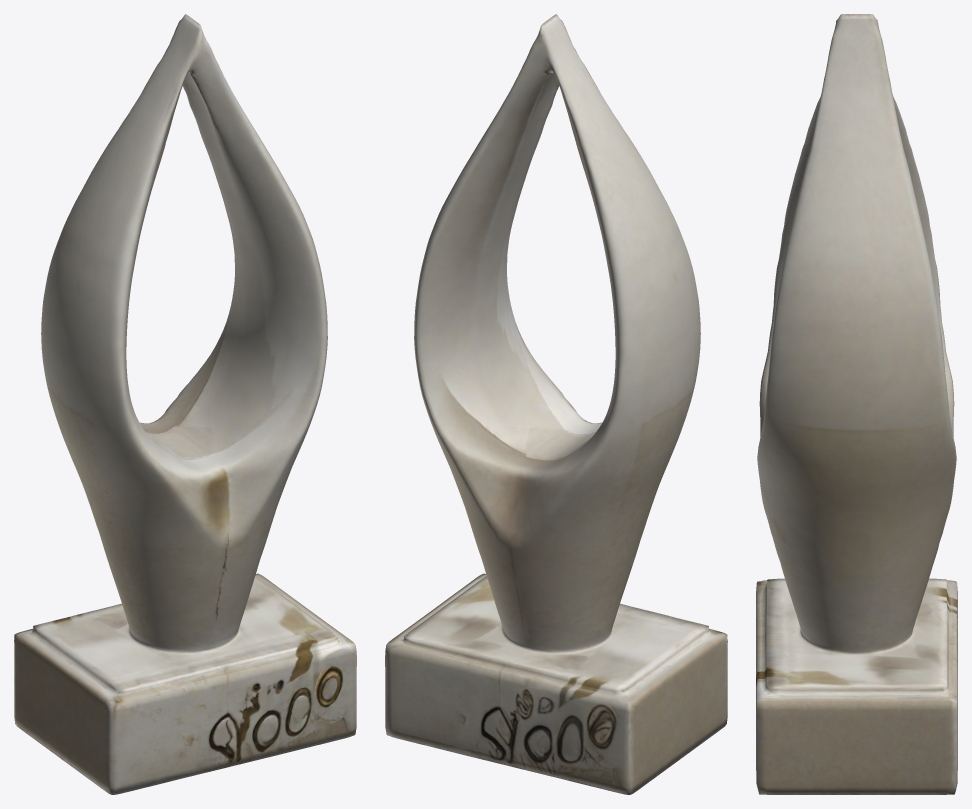
Rendered from Abstract_Stone.glb.
The picture shows the model from 3 angles, left to right: view 1: azimuth 30°, elevation 25°; view 2: azimuth 150°, elevation 25°; view 3: azimuth 270°, elevation 25°; orthographic projection. The views are drawn at different scales.
Bounding box in the file's own units: 0.729 × 2 × 0.5053.
1 material, 1 textured.
